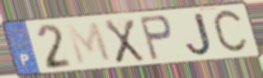2: (35, 23, 73, 71)
C: (211, 7, 251, 57)
J: (184, 11, 214, 58)
M: (64, 20, 115, 67)
P: (137, 13, 174, 62)
X: (102, 17, 146, 65)
